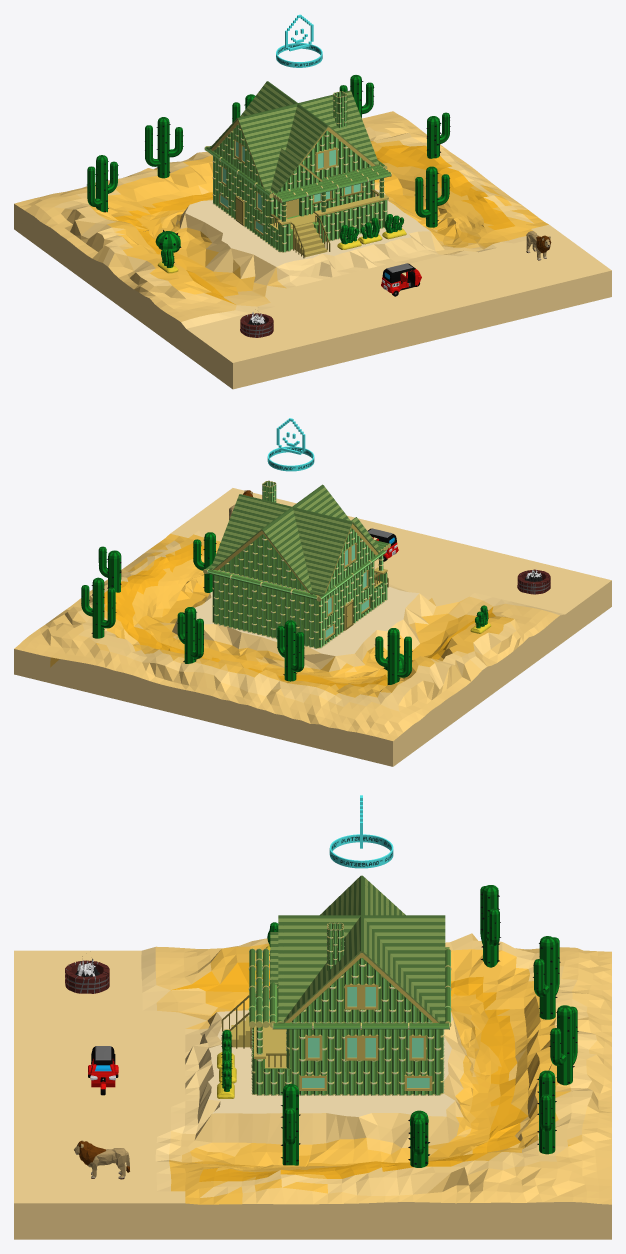
3 renders of one model, top to bottom at view 1: azimuth 30°, elevation 25°; view 2: azimuth 150°, elevation 25°; view 3: azimuth 270°, elevation 25°, orthographic. The views are drawn at different scales.
Visible parts, largest first — view 1: Cube.001, Cube.1327, Cylinder.044, Cylinder.037, Cylinder.045, TYPE_PREMIUM, VEHICLES_TUC_TUC, Cylinder.038, OBJRANDOM_CAMPFIRE, Cylinder.042; view 2: Cube.001, Cube.1327, Cylinder.042, Cylinder.045, Cylinder.044, Cylinder.043, TYPE_PREMIUM, Cylinder.037, Cylinder.038, OBJRANDOM_CAMPFIRE; view 3: Cube.001, Cube.1327, Cylinder.044, Cylinder.043, Cylinder.045, Cylinder.042, Cylinder.037, OBJRANDOM_CAMPFIRE, TYPE_PREMIUM, ANIMAL_LEON, VEHICLES_TUC_TUC, Cylinder.038.
Part boxes in pixels (bbox=[...]): Cube.001: bbox=[14, 111, 611, 389]; Cube.1327: bbox=[204, 81, 391, 258]; Cylinder.044: bbox=[145, 117, 183, 178]; Cylinder.037: bbox=[415, 166, 449, 227]; Cylinder.045: bbox=[87, 155, 118, 212]; TYPE_PREMIUM: bbox=[276, 14, 322, 67]; VEHICLES_TUC_TUC: bbox=[381, 263, 421, 296]; Cylinder.038: bbox=[426, 112, 450, 158]; OBJRANDOM_CAMPFIRE: bbox=[240, 312, 273, 337]; Cylinder.042: bbox=[339, 75, 374, 118]; Cube.001: bbox=[14, 488, 611, 766]; Cube.1327: bbox=[203, 480, 390, 648]; Cylinder.042: bbox=[81, 577, 116, 638]; Cylinder.045: bbox=[374, 628, 412, 684]; Cylinder.044: bbox=[277, 620, 304, 681]; Cylinder.043: bbox=[177, 607, 203, 663]; TYPE_PREMIUM: bbox=[267, 418, 314, 471]; Cylinder.037: bbox=[193, 532, 220, 592]; Cylinder.038: bbox=[98, 546, 121, 592]; OBJRANDOM_CAMPFIRE: bbox=[517, 569, 550, 594]; Cube.001: bbox=[14, 933, 611, 1239]; Cube.1327: bbox=[221, 875, 451, 1095]; Cylinder.044: bbox=[533, 936, 560, 1019]; Cylinder.043: bbox=[549, 1005, 578, 1085]; Cylinder.045: bbox=[480, 885, 500, 967]; Cylinder.042: bbox=[537, 1070, 556, 1154]; Cylinder.037: bbox=[281, 1084, 300, 1165]; OBJRANDOM_CAMPFIRE: bbox=[65, 956, 109, 993]; TYPE_PREMIUM: bbox=[329, 795, 393, 868]; ANIMAL_LEON: bbox=[74, 1140, 129, 1179]; VEHICLES_TUC_TUC: bbox=[88, 1046, 118, 1095]; Cylinder.038: bbox=[408, 1110, 429, 1167].
Size of the model in its own units: 4002 by 2410 by 4001.
33 materials, 4 textured.
